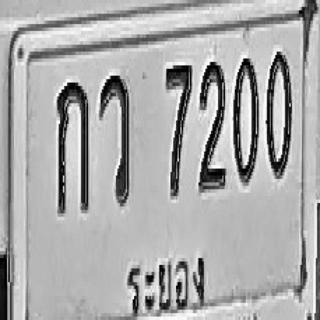A01: (56, 79, 90, 213)
A37: (99, 72, 129, 206)
N00: (266, 48, 292, 179), (233, 55, 258, 182)
N02: (198, 60, 226, 191)
N07: (165, 62, 192, 196)
P53: (124, 241, 208, 320)
